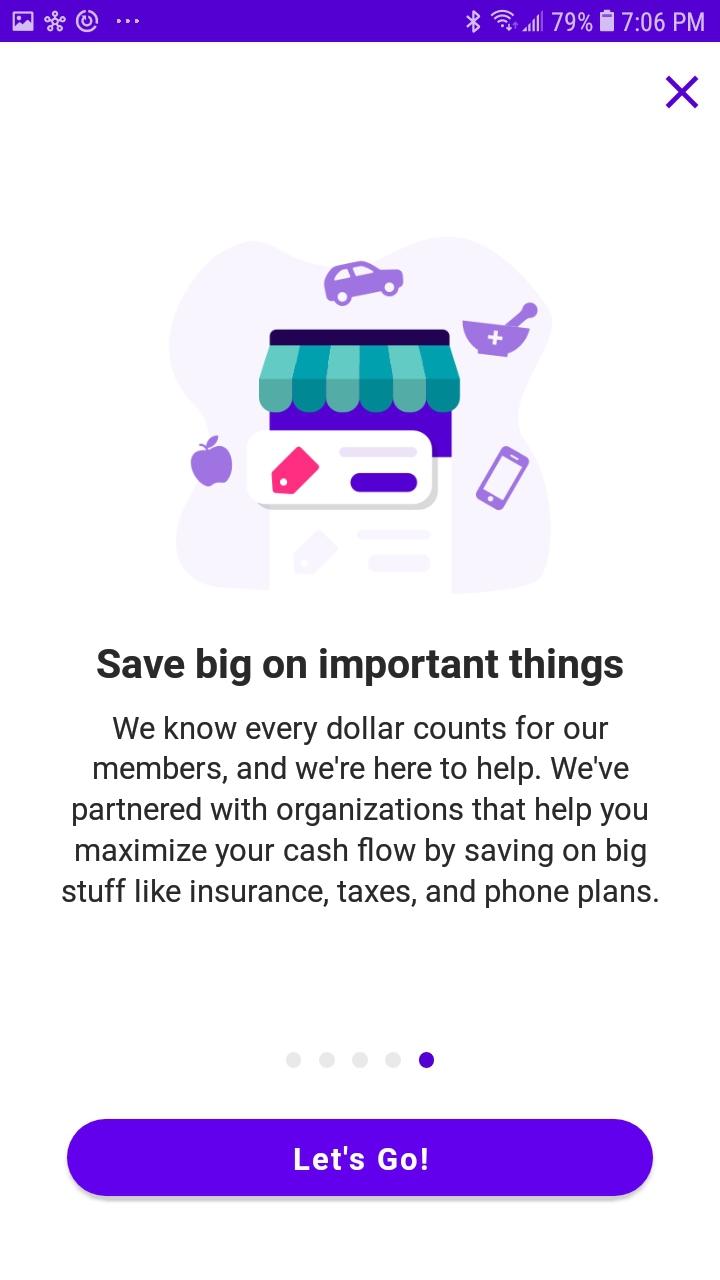Icon: (666, 76, 699, 110)
Image: (169, 236, 553, 595)
PageIndicator: (286, 1051, 435, 1069)
Text: (62, 714, 659, 910), (97, 647, 624, 688)
TextButton: (67, 1118, 654, 1197)
UpperTaskBar: (1, 1, 720, 43)
